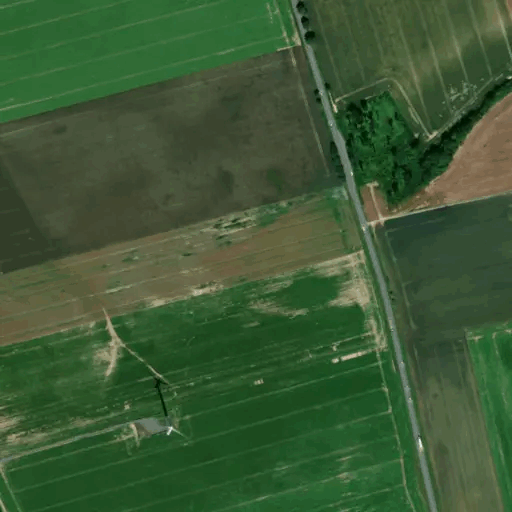wt: (142, 368, 193, 446)
